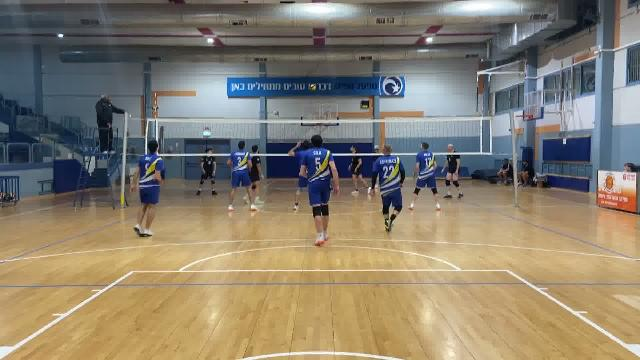ball: (309, 83, 317, 92)
